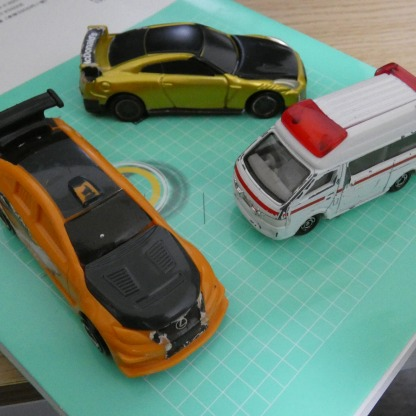car: (0, 90, 237, 364), (234, 62, 415, 246), (77, 20, 305, 115)
